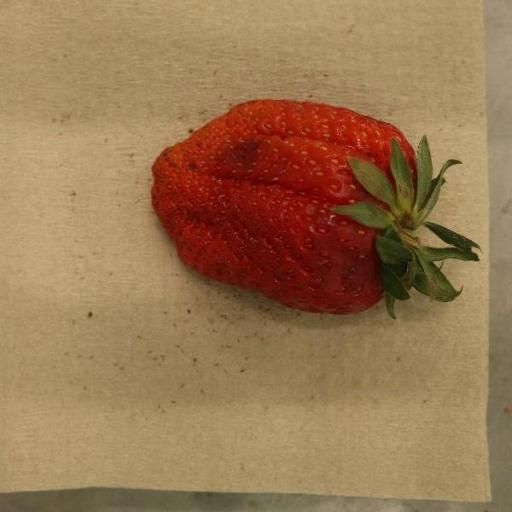Strawberry: (150, 99, 480, 316)
